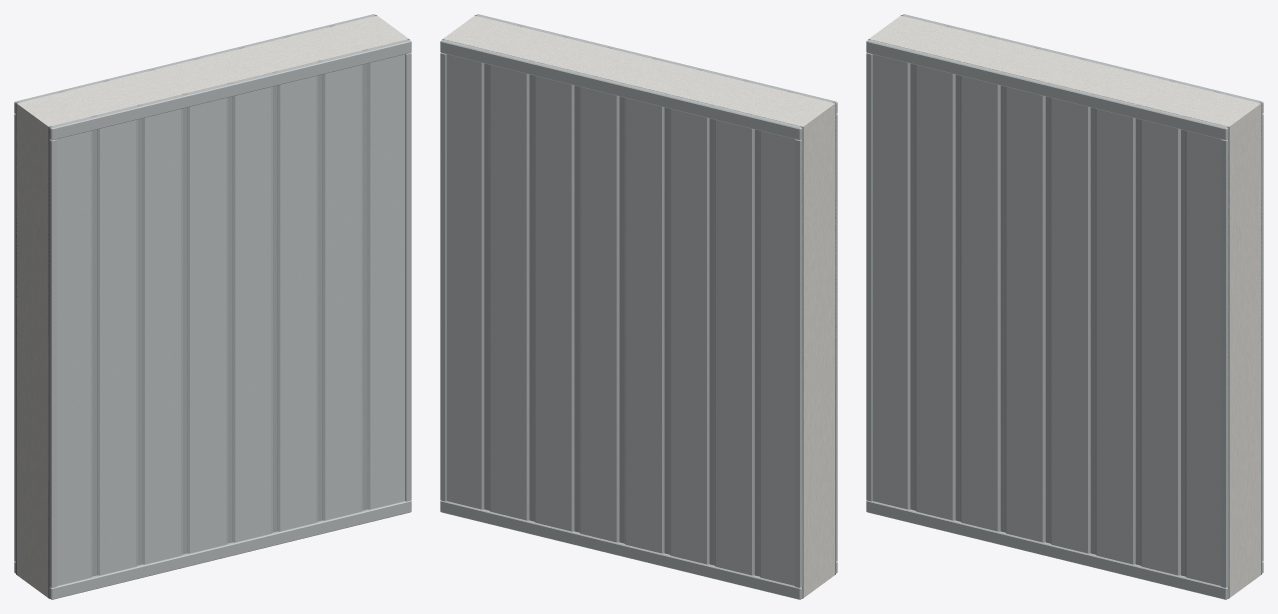
Rendered from HD_StyrofoamSandwichWall.glb.
The picture shows the model from 3 angles, left to right: view 1: azimuth 30°, elevation 25°; view 2: azimuth 150°, elevation 25°; view 3: azimuth 330°, elevation 25°; orthographic projection.
Parts seen in each view (by area): view 1: Front aluminium skin, EPS core | exposed only on cut ends and upper cut, Folded perimeter flashing.001, Folded perimeter flashing, End seam flashing, End seam flashing.001, End seam flashing.002, Rear aluminium skin, Folded perimeter flashing.003; view 2: Rear aluminium skin, EPS core | exposed only on cut ends and upper cut, Folded perimeter flashing.003, Folded perimeter flashing.002, End seam flashing.002, End seam flashing.003, End seam flashing, Front aluminium skin, Folded perimeter flashing.001; view 3: Front aluminium skin, EPS core | exposed only on cut ends and upper cut, Folded perimeter flashing.001, Folded perimeter flashing, End seam flashing.001, End seam flashing, End seam flashing.003, Rear aluminium skin, Folded perimeter flashing.003.
Part boxes in pixels (x1=…): Front aluminium skin: x1=48, y1=39, x2=409, y2=598; EPS core | exposed only on cut ends and upper cut: x1=16, y1=16, x2=408, y2=597; Folded perimeter flashing.001: x1=49, y1=39, x2=411, y2=140; Folded perimeter flashing: x1=49, y1=500, x2=411, y2=599; End seam flashing: x1=49, y1=139, x2=56, y2=587; End seam flashing.001: x1=405, y1=53, x2=411, y2=501; End seam flashing.002: x1=14, y1=113, x2=16, y2=561; Rear aluminium skin: x1=16, y1=15, x2=377, y2=574; Folded perimeter flashing.003: x1=14, y1=14, x2=374, y2=113; Rear aluminium skin: x1=442, y1=39, x2=803, y2=598; EPS core | exposed only on cut ends and upper cut: x1=443, y1=16, x2=835, y2=597; Folded perimeter flashing.003: x1=440, y1=39, x2=802, y2=140; Folded perimeter flashing.002: x1=440, y1=500, x2=802, y2=599; End seam flashing.002: x1=795, y1=139, x2=802, y2=587; End seam flashing.003: x1=440, y1=53, x2=446, y2=501; End seam flashing: x1=835, y1=113, x2=837, y2=561; Front aluminium skin: x1=474, y1=15, x2=835, y2=574; Folded perimeter flashing.001: x1=477, y1=14, x2=837, y2=113; Front aluminium skin: x1=868, y1=39, x2=1229, y2=598; EPS core | exposed only on cut ends and upper cut: x1=869, y1=16, x2=1261, y2=597; Folded perimeter flashing.001: x1=866, y1=39, x2=1228, y2=140; Folded perimeter flashing: x1=866, y1=500, x2=1228, y2=599; End seam flashing.001: x1=1221, y1=139, x2=1228, y2=587; End seam flashing: x1=866, y1=53, x2=872, y2=501; End seam flashing.003: x1=1261, y1=113, x2=1263, y2=561; Rear aluminium skin: x1=900, y1=15, x2=1261, y2=574; Folded perimeter flashing.003: x1=903, y1=14, x2=1263, y2=113.
Bounding box in the file's own units: 1 × 1.25 × 0.18.
3 materials, 2 textured.
